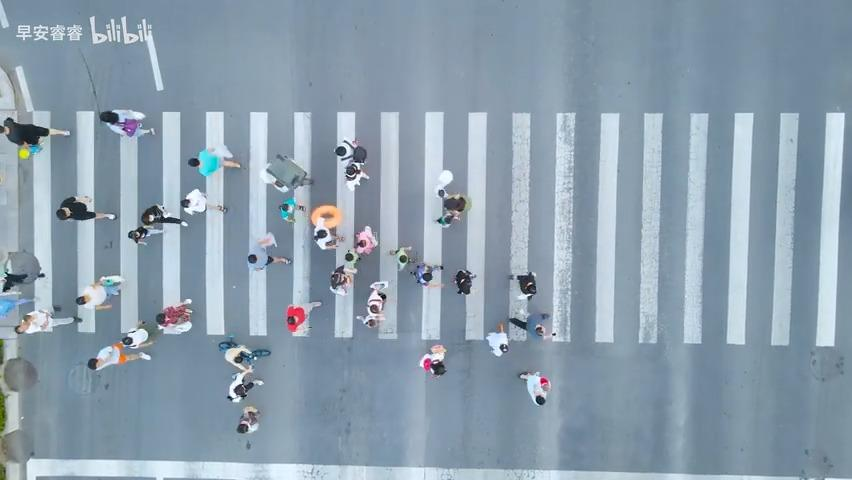Civilian: (1, 116, 70, 156), (257, 151, 316, 196), (127, 203, 188, 245), (333, 137, 369, 191), (0, 249, 45, 292), (87, 341, 151, 371), (218, 337, 270, 372), (247, 231, 292, 271), (14, 308, 82, 334), (187, 146, 243, 177), (75, 274, 123, 310), (99, 108, 155, 138), (55, 194, 116, 221), (310, 204, 344, 250), (356, 281, 388, 328), (509, 309, 556, 340), (226, 364, 264, 402), (285, 300, 321, 336), (155, 298, 193, 332), (180, 188, 227, 215), (435, 188, 467, 227), (518, 370, 551, 406), (140, 203, 188, 227), (120, 319, 156, 349), (418, 343, 447, 377), (410, 261, 444, 288), (247, 251, 292, 271), (334, 137, 367, 164), (329, 264, 356, 296), (485, 323, 509, 357), (508, 270, 537, 298), (278, 197, 306, 224), (353, 225, 378, 255), (127, 225, 163, 245), (0, 65, 16, 109), (236, 405, 260, 433), (452, 268, 476, 295), (389, 245, 413, 271)
